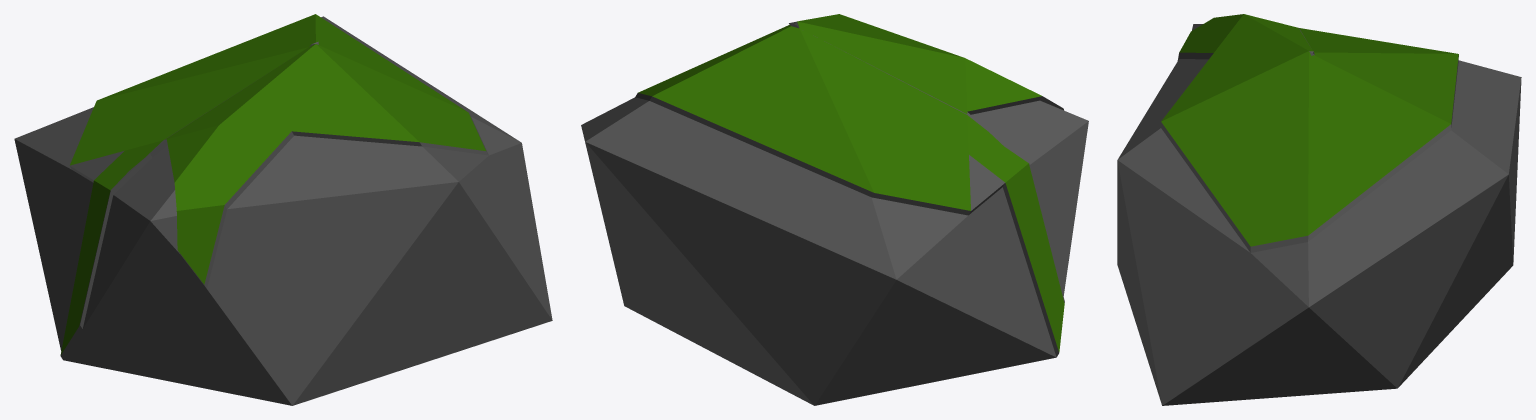
File: rock and mox.blend.fbx
3 renders of one model, left to right at view 1: azimuth 30°, elevation 25°; view 2: azimuth 150°, elevation 25°; view 3: azimuth 270°, elevation 25°, orthographic. The views are drawn at different scales.
Visible parts, largest first — view 1: average rock; view 2: average rock; view 3: average rock.
Boxes of the visible parts, x1,y1,x2,y2 form: average rock: (14, 14, 552, 405); average rock: (581, 14, 1088, 405); average rock: (1117, 14, 1521, 405).
Bounding box in the file's own units: 233 × 131 × 173.
